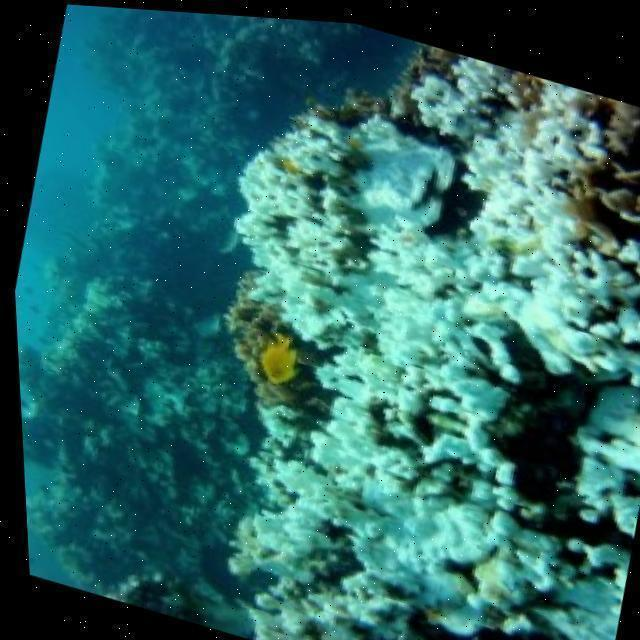Bleached Coral: (223, 95, 640, 640)
